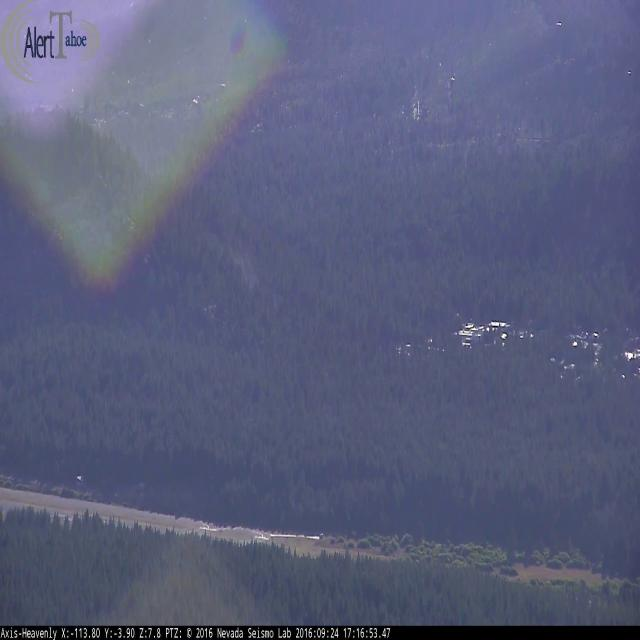smoke: (222, 230, 288, 312)
